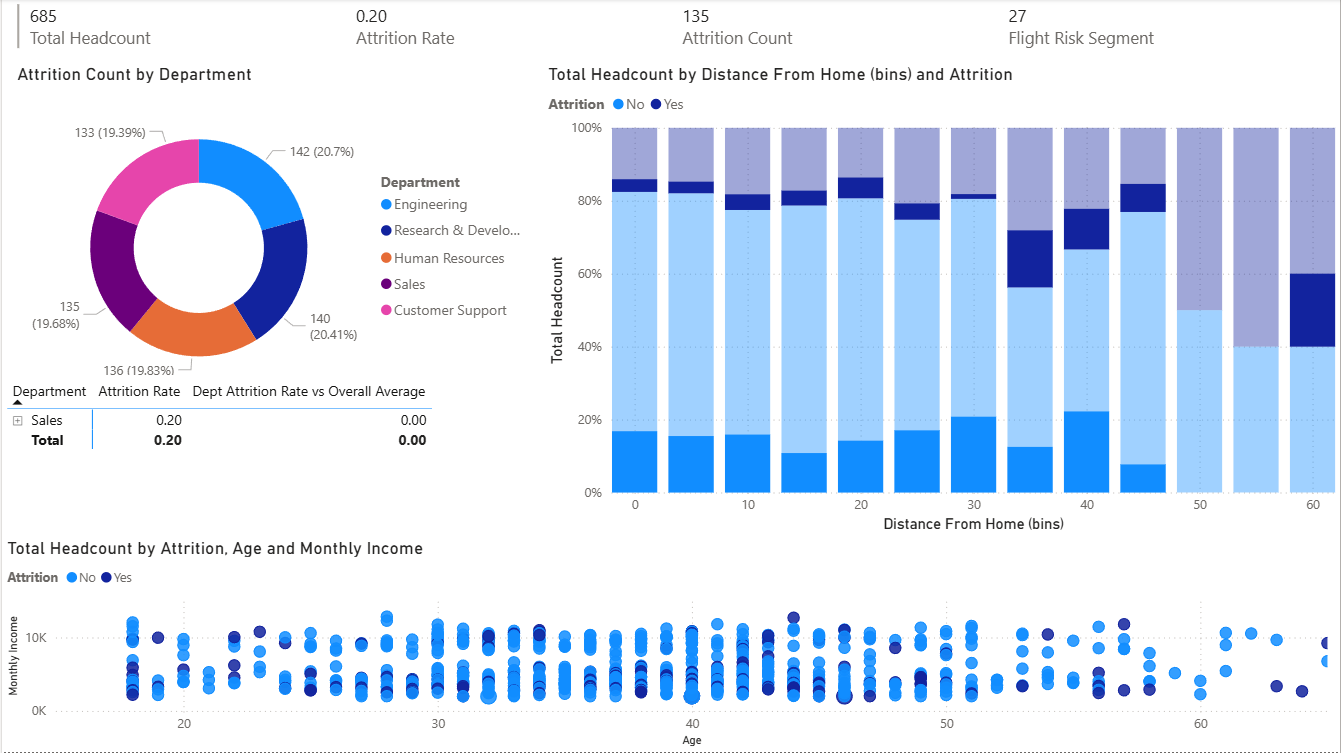

Layout of this report page (visuals, bound fields, positions):
{"tool":"powerbi","page":{"name":"Page 1","canvas":[1280,720],"ordinal":0},"visuals":[{"type":"multiRowCard","fields":{"Values":["hr_attrition_dataset.Total Headcount","hr_attrition_dataset.Attrition Rate","hr_attrition_dataset.Attrition Count","hr_attrition_dataset.Flight Risk Segment"]},"box":[9.7,0,1270.3,61.3],"z":0},{"type":"donutChart","fields":{"Category":["hr_attrition_dataset.Department"],"Y":["hr_attrition_dataset.Attrition Count"]},"box":[9.8,60.8,507.4,334.7],"z":1000},{"type":"pivotTable","fields":{"Rows":["hr_attrition_dataset.Department","hr_attrition_dataset.Job Role"],"Values":["hr_attrition_dataset.Attrition Rate","hr_attrition_dataset.Dept Attrition Rate vs Overall Average"]},"box":[0,359.7,517.2,153.2],"z":2000},{"type":"hundredPercentStackedColumnChart","fields":{"Category":["hr_attrition_dataset.Distance From Home (bins)"],"Y":["hr_attrition_dataset.Total Headcount"],"Series":["hr_attrition_dataset.Attrition"]},"box":[517.2,60.8,762.8,454.2],"z":3000},{"type":"scatterChart","fields":{"X":["hr_attrition_dataset.Age"],"Y":["hr_attrition_dataset.Monthly Income"],"Size":["hr_attrition_dataset.Total Headcount"],"Series":["hr_attrition_dataset.Attrition"]},"box":[0,515,1280,205.4],"z":4000}]}

Visuals, with their boxes in screenshot pixels (x1, y1, x2, y2), scaled from the page's 1280x720 canvas onto the 1341x753 screenshot:
multiRowCard - hr_attrition_dataset.Total Headcount x hr_attrition_dataset.Attrition Rate: 10 0 1340 64
donutChart - hr_attrition_dataset.Department x hr_attrition_dataset.Attrition Count: 10 64 542 414
pivotTable - hr_attrition_dataset.Department x hr_attrition_dataset.Job Role: 0 376 542 536
hundredPercentStackedColumnChart - hr_attrition_dataset.Distance From Home (bins) x hr_attrition_dataset.Total Headcount: 542 64 1340 539
scatterChart - hr_attrition_dataset.Age x hr_attrition_dataset.Monthly Income: 0 539 1340 752
